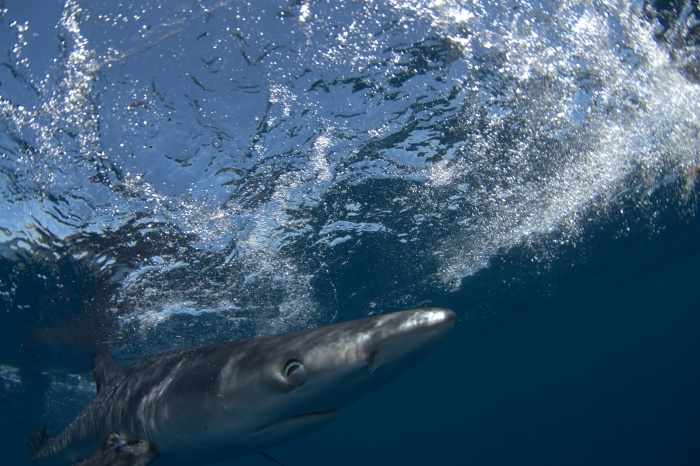Azul: (25, 294, 470, 466)
